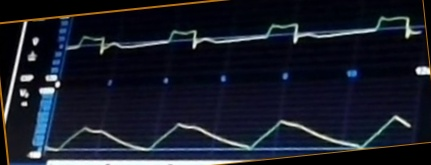Premature_cycling Flow: (71, 15, 421, 64)
Premature_cycling Volume: (48, 110, 410, 157)
